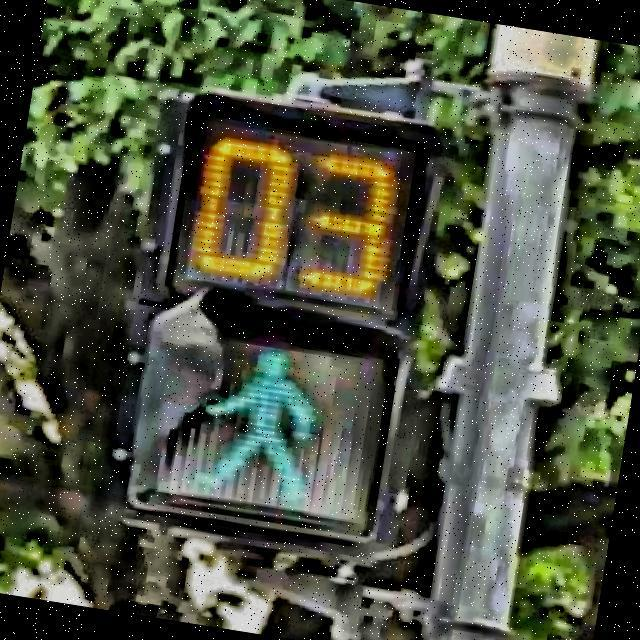green_light: (182, 338, 340, 514)
